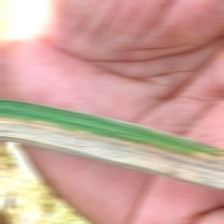Leaf_Blast: (3, 124, 214, 179)
